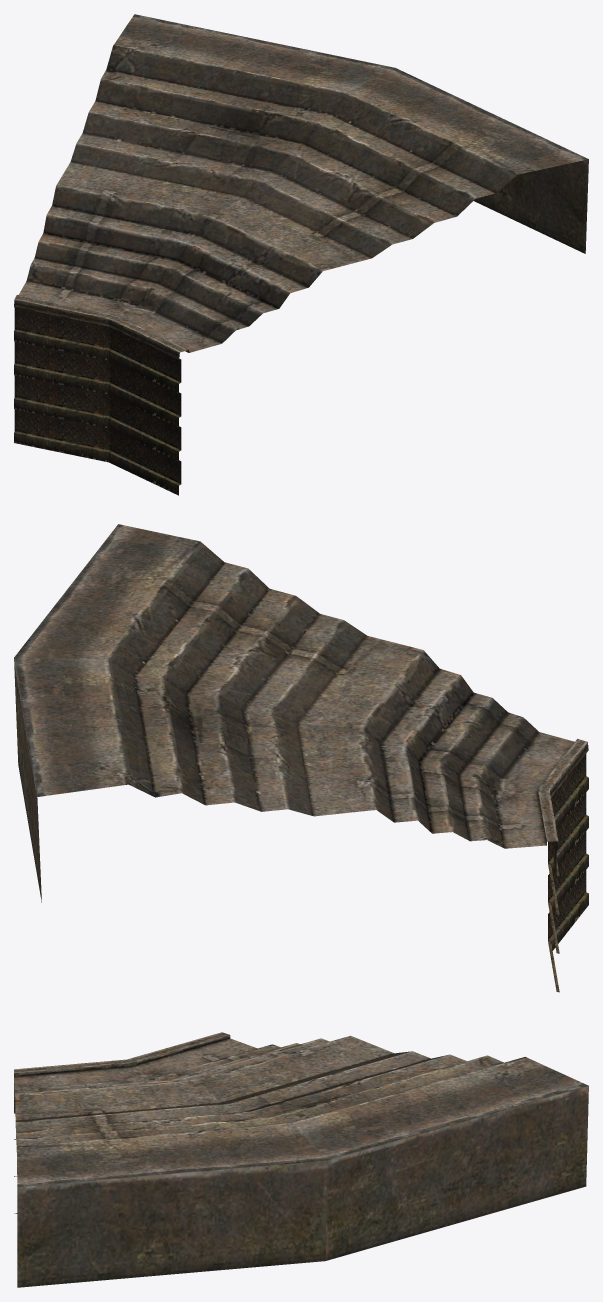
The model's file is miniboss_05-02.fbx.
The picture shows the model from 3 angles, top to bottom: view 1: azimuth 30°, elevation 25°; view 2: azimuth 150°, elevation 25°; view 3: azimuth 270°, elevation 25°; orthographic projection. The views are drawn at different scales.
Parts seen in each view (by area): view 1: miniboss_05_02; view 2: miniboss_05_02; view 3: miniboss_05_02.
Boxes of the visible parts, x1=… form: miniboss_05_02: x1=14, y1=14, x2=588, y2=495; miniboss_05_02: x1=14, y1=524, x2=588, y2=992; miniboss_05_02: x1=14, y1=1032, x2=588, y2=1287.
Size of the model in its own units: 96.88 by 45.64 by 92.16.
